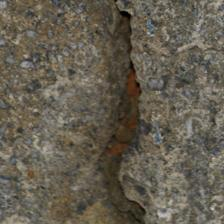Crack: (0, 0, 131, 57), (20, 53, 130, 83)
